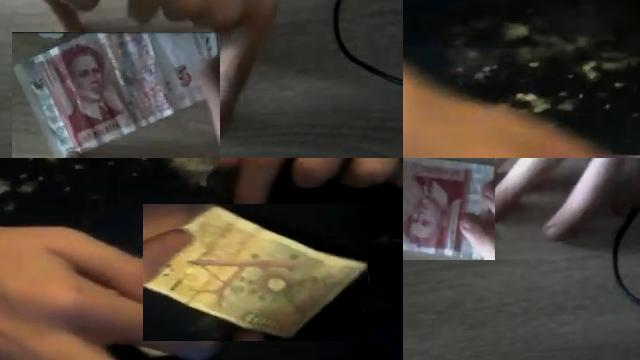10leva: (143, 204, 368, 341)
5leva: (12, 32, 220, 158), (403, 158, 495, 260)
